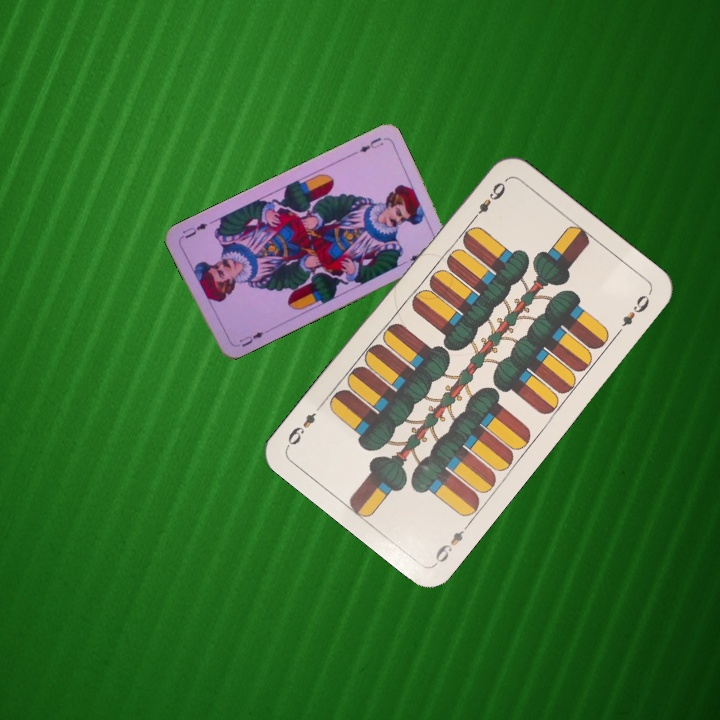E9: (430, 518, 473, 567), (467, 176, 509, 225)
EU: (231, 327, 269, 350), (355, 133, 386, 155)
